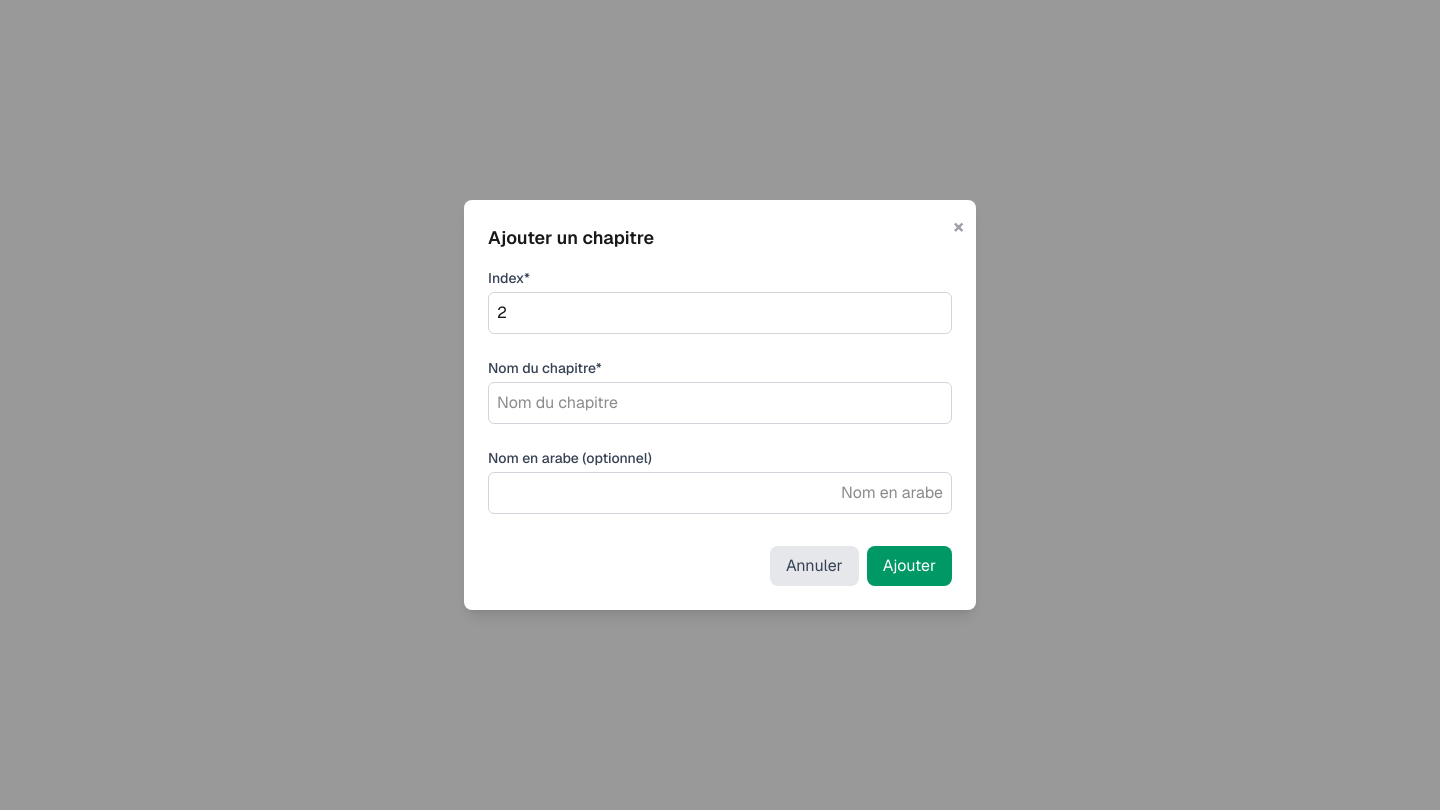
AddItemFormDialog › shows 'En cours...' on submit button during submission
Type "Chapitre Longue Soumission" into the field labelled "Nom du chapitre*". click: (720, 403)
box: [488, 382, 952, 424]
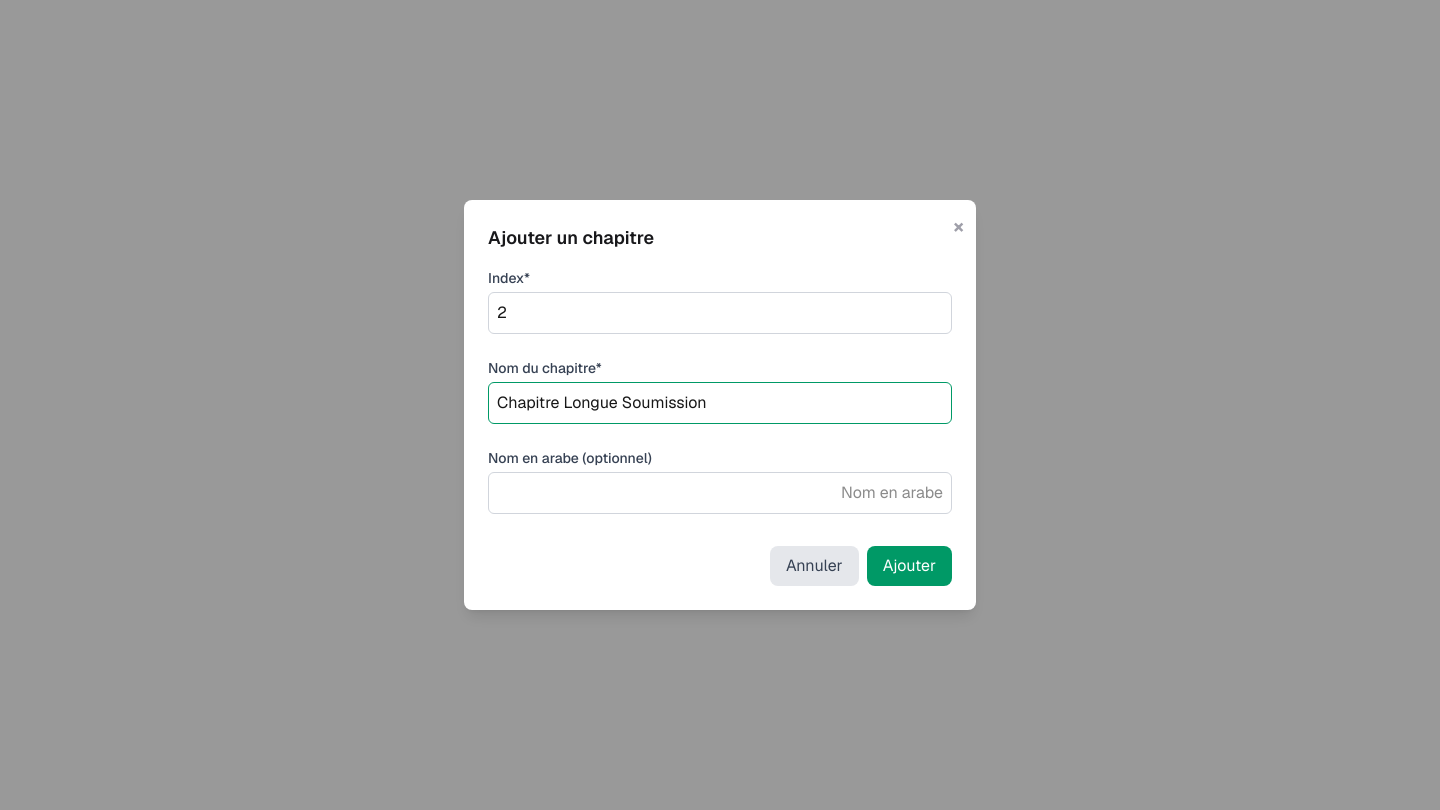
Click the button "Ajouter". click: (909, 566)
box: [867, 546, 952, 586]
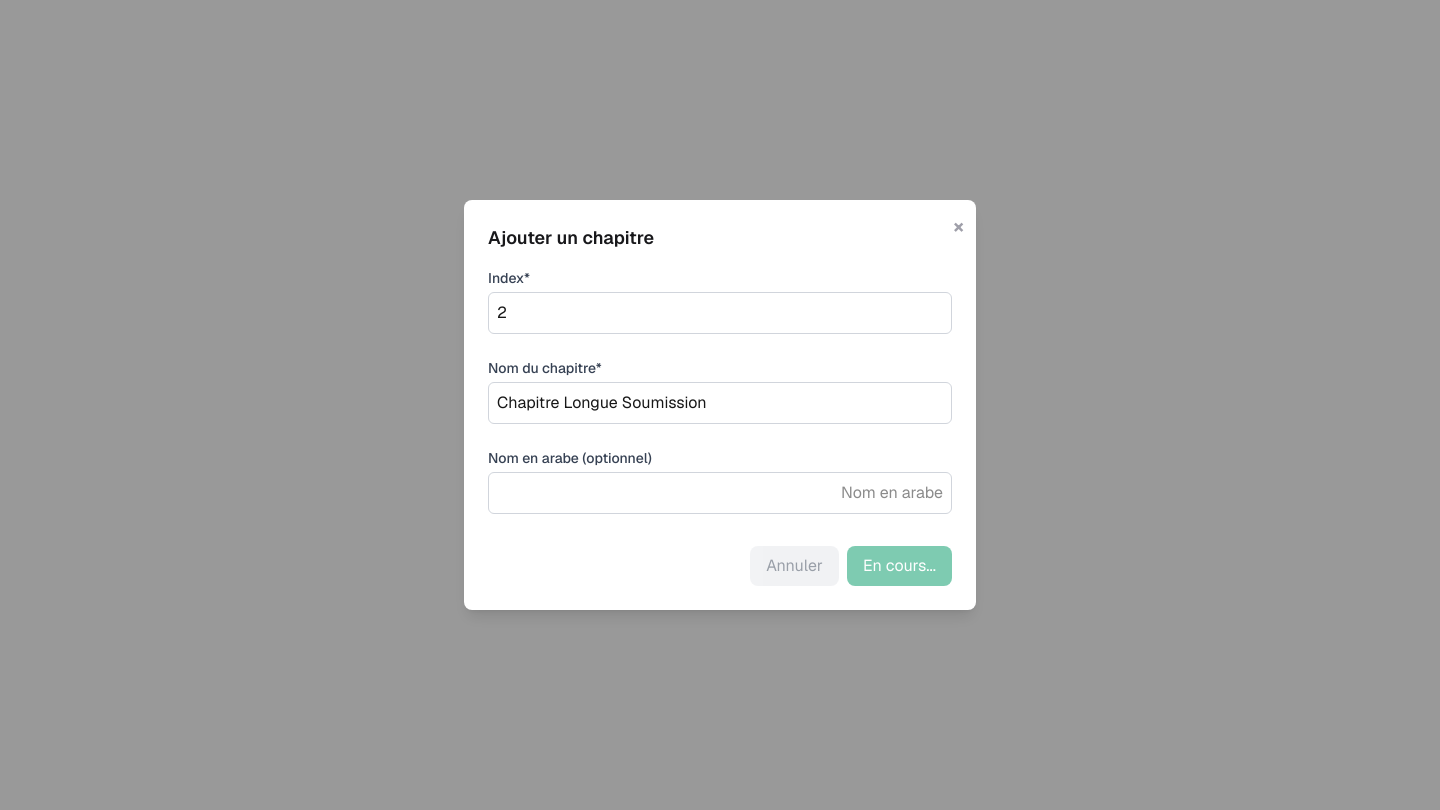
Now the button "En cours..." is disabled, box [847, 546, 952, 586]
